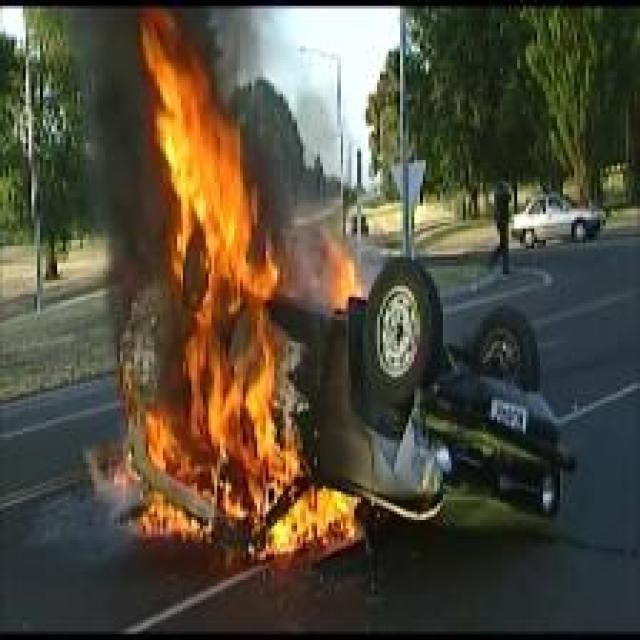Fire: (112, 12, 362, 558), (322, 230, 364, 313)
